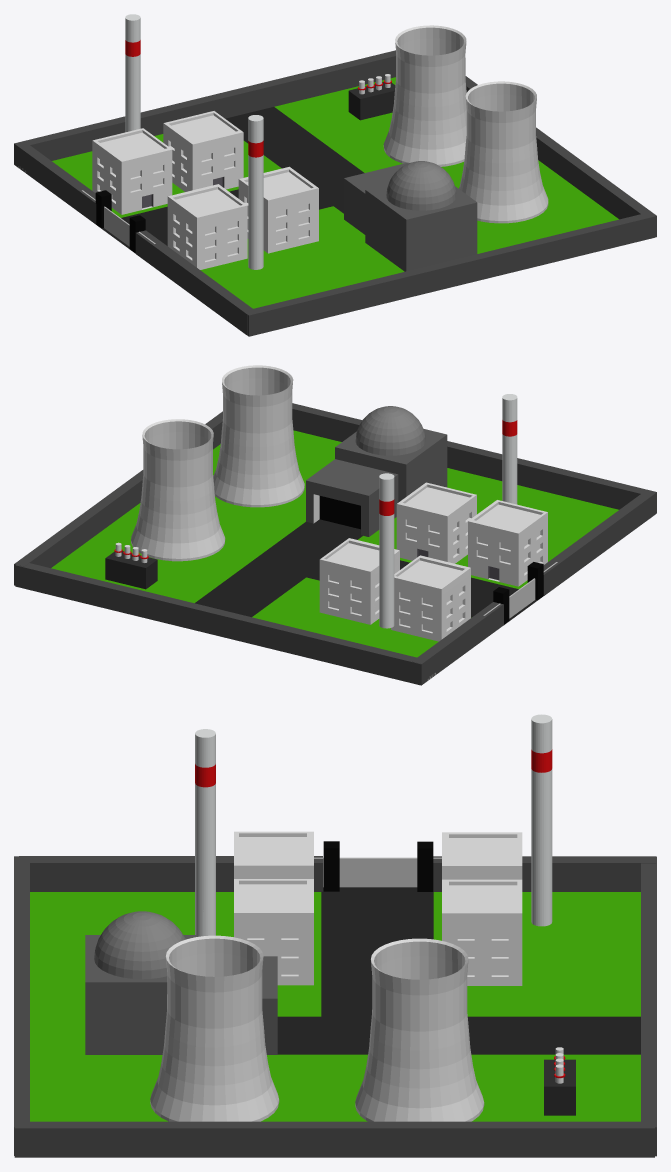
The model's file is nuclear2.fbx.
The picture shows the model from 3 angles, top to bottom: view 1: azimuth 30°, elevation 25°; view 2: azimuth 150°, elevation 25°; view 3: azimuth 270°, elevation 25°; orthographic projection. The views are drawn at different scales.
Parts seen in each view (by area): view 1: Cylinder.003, Plane.002, Cube.004, Sphere, Cylinder.004, Cube.012, Portal; view 2: Cylinder.003, Plane.002, Cube.004, Sphere, Cylinder.004, Cube.012, Portal; view 3: Cylinder.003, Plane.002, Cube.004, Cylinder.004, Sphere, Portal, Cube.012.
Boxes of the visible parts, <box> form: Cylinder.003: <box>14,25,656,336</box>; Plane.002: <box>52,77,618,308</box>; Cube.004: <box>344,163,477,271</box>; Sphere: <box>386,161,456,210</box>; Cylinder.004: <box>125,14,140,132</box>; Cube.012: <box>348,82,395,120</box>; Portal: <box>81,190,155,246</box>; Cylinder.003: <box>14,365,656,685</box>; Plane.002: <box>51,430,618,657</box>; Cube.004: <box>306,428,447,536</box>; Sphere: <box>355,406,425,455</box>; Cylinder.004: <box>379,473,394,628</box>; Cube.012: <box>105,551,157,589</box>; Portal: <box>483,562,557,618</box>; Cylinder.003: <box>14,729,656,1157</box>; Plane.002: <box>30,892,640,1121</box>; Cube.004: <box>85,935,277,1054</box>; Cylinder.004: <box>531,714,552,926</box>; Sphere: <box>94,911,185,979</box>; Portal: <box>314,857,441,887</box>; Cube.012: <box>544,1059,575,1115</box>.
Size of the model in its own units: 4032 by 1502 by 4015.
